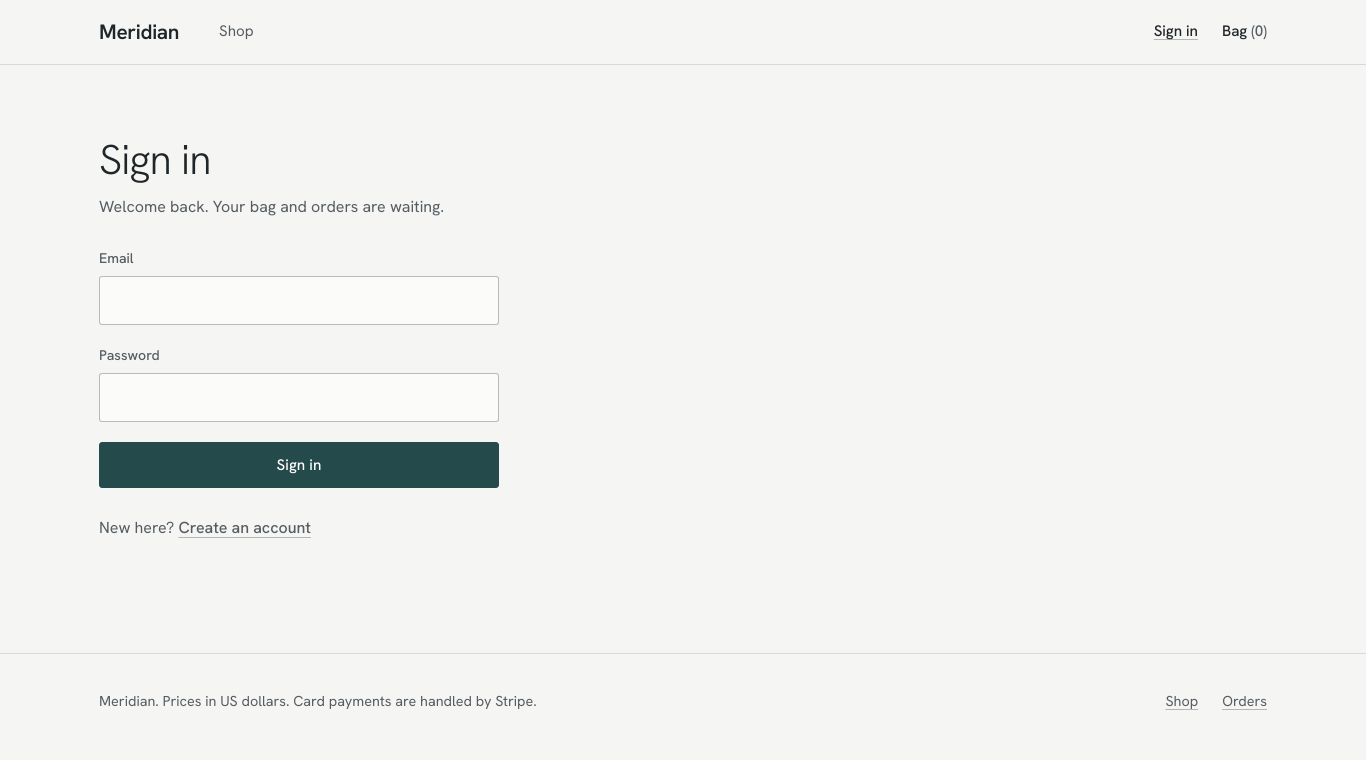
Test: storefront against the backend contract › shows the API's error message on a failed sign in
The width and height of the screenshot is (1366, 760).
Type "ada@example.com" into the field labelled "Email". click: (299, 300)
box: [99,276,499,325]
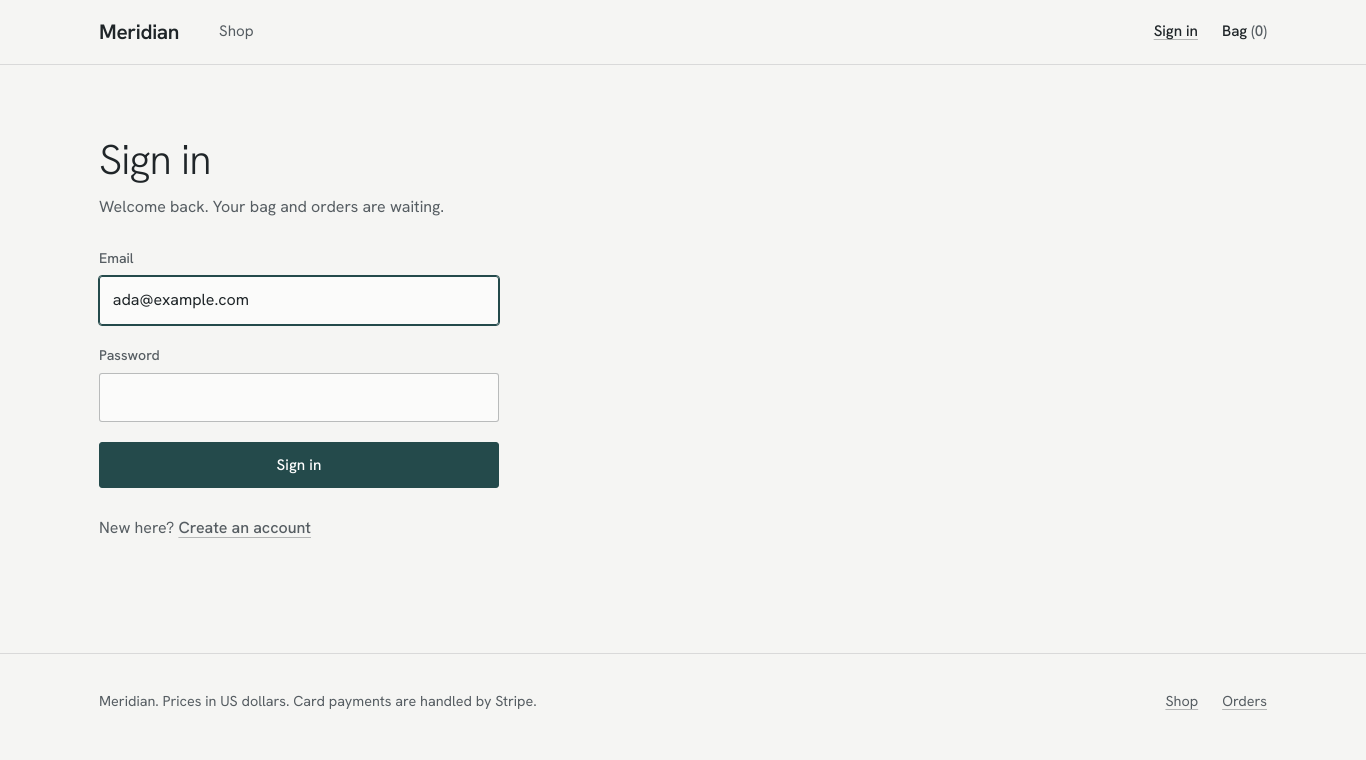
Type "wrong-password" into the password field labelled "Password". click: (299, 398)
box: [99,373,499,422]
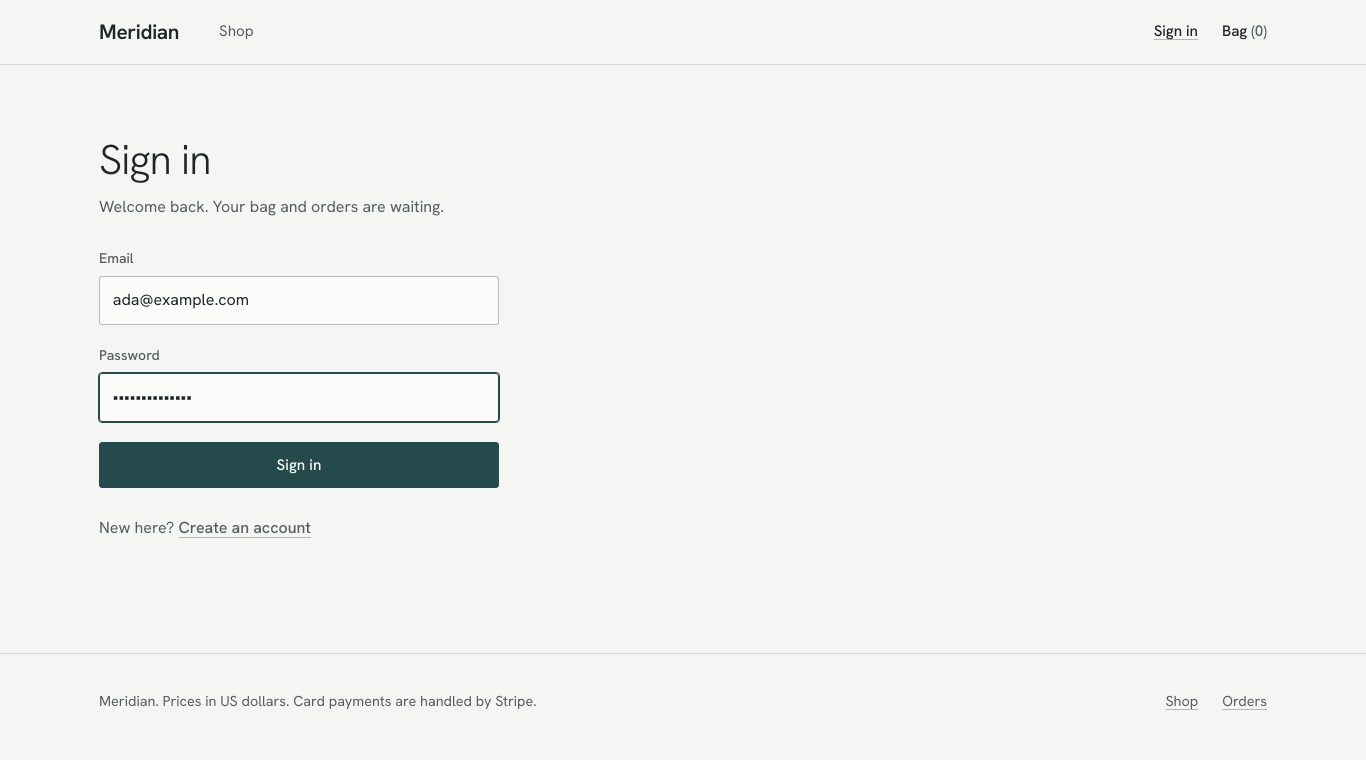
Click the button "Sign in". click: (299, 465)
box: [99,442,499,488]
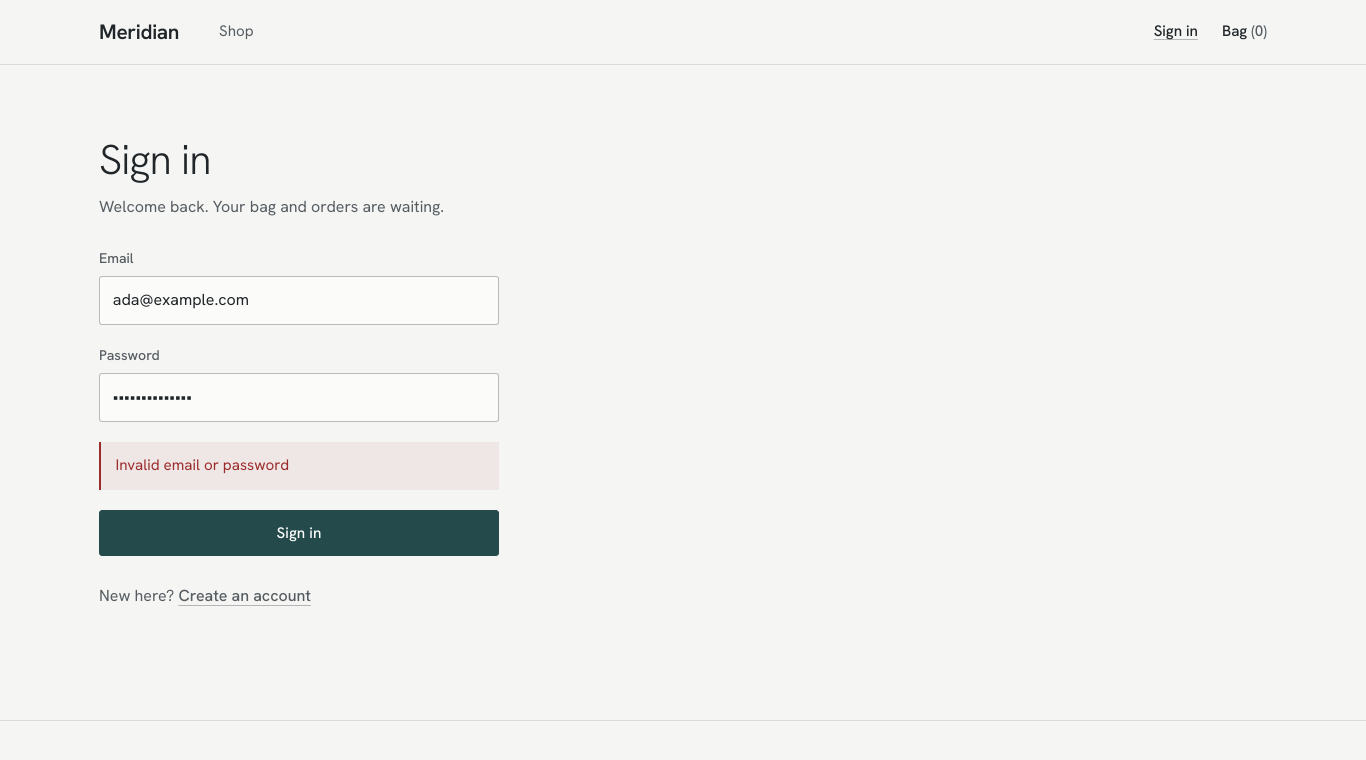
expect the message reads "Invalid email or password": met, box [115,455,289,475]
